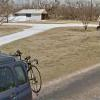Bicycle: (9, 47, 45, 95)
